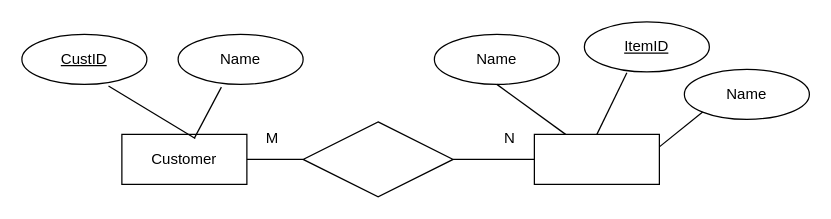
Some shapes in this 831 by 219 pixel diagram are drawn without their labels. Here are the shapes that lost their labels. From the top down, the box of each, then its label:
(302, 121, 453, 197): Buys
(533, 133, 659, 184): Item
